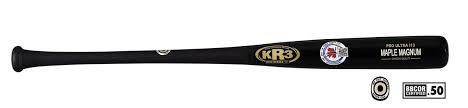bat: (10, 34, 450, 73)
